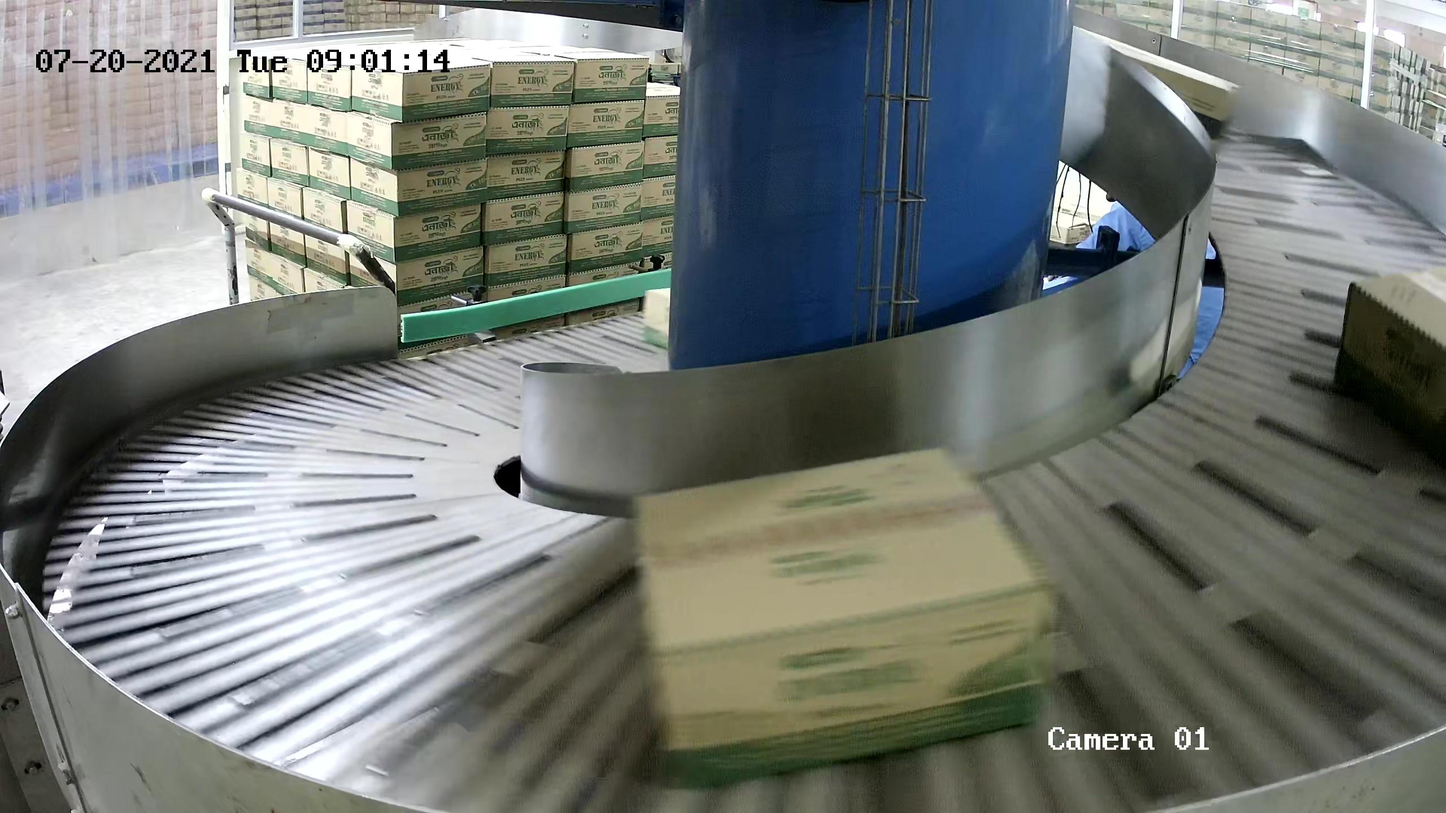Box: (630, 441, 1063, 796), (1329, 262, 1446, 463), (1077, 42, 1240, 142), (641, 286, 671, 351)
